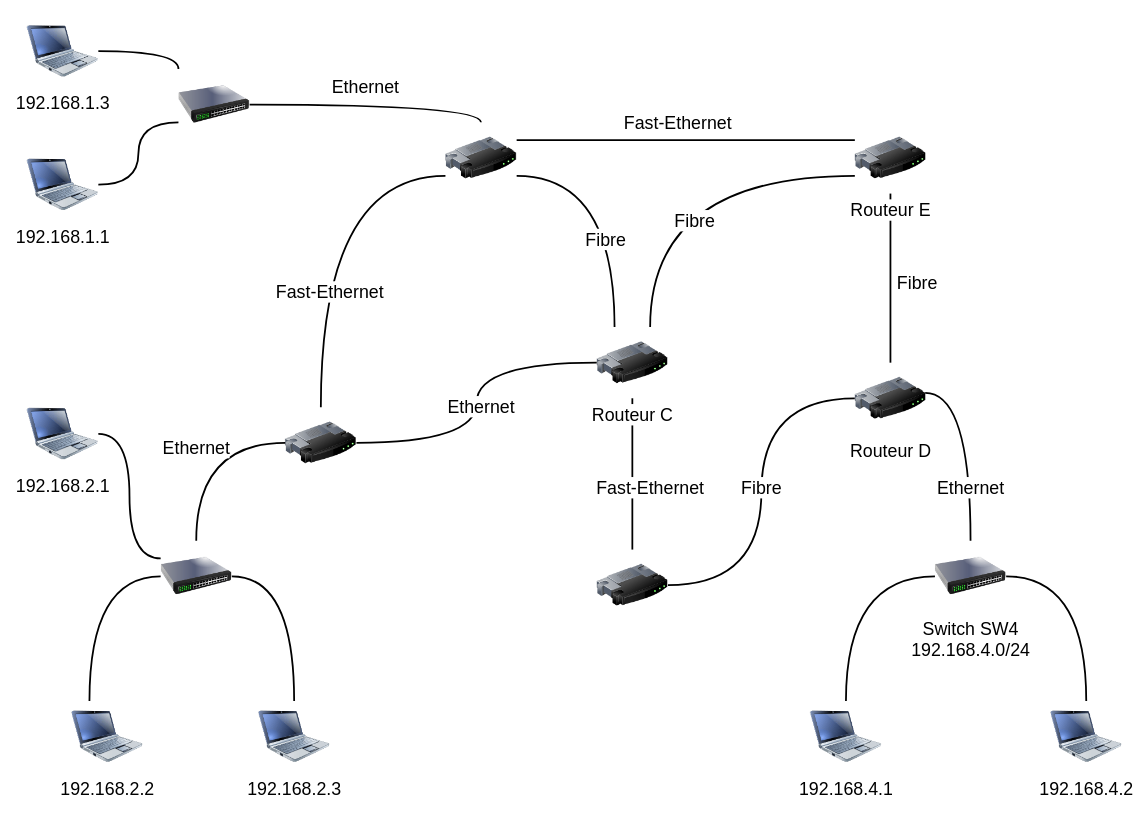
This 1148x814 diagram has some shape labels left out. Here are the shapes that lost their labels. From the top down, the box of each, then its label:
(178, 69, 249, 140): Switch SW1 192.168.1.0/24
(445, 122, 516, 193): Routeur A
(285, 407, 356, 478): Routeur B
(160, 540, 231, 611): Switch SW2 192.168.2.0/24
(596, 549, 668, 620): Routeur F
